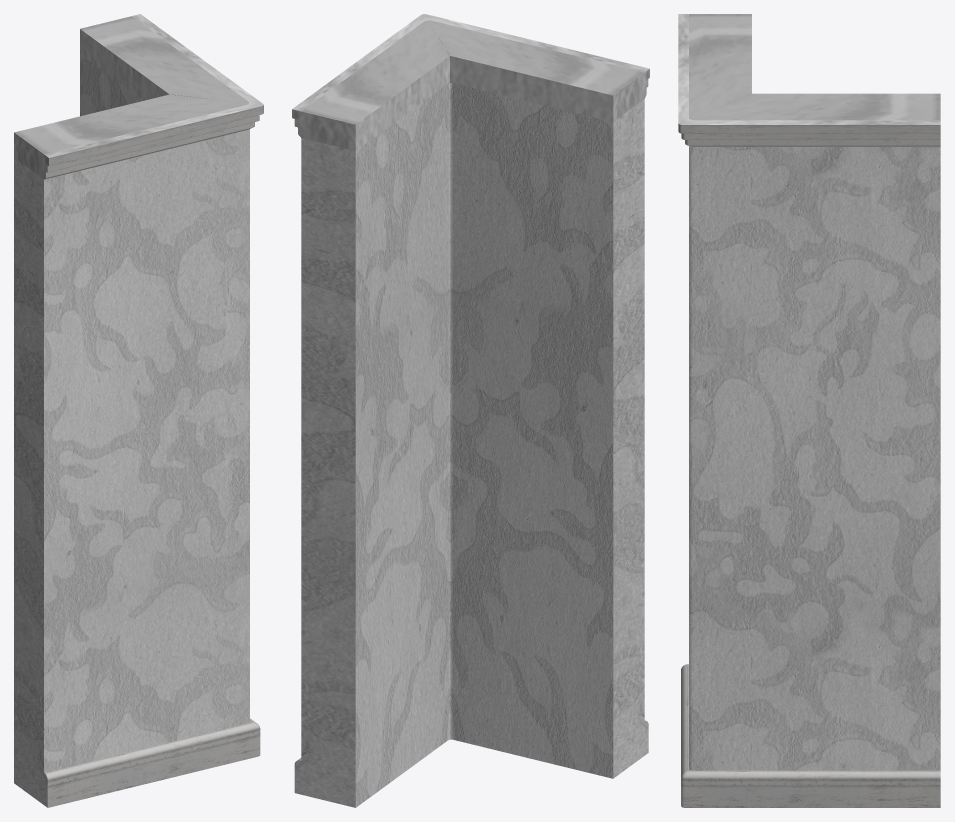
The model's file is SM_Wall_Bedroom_Corner.fbx.
3 renders of one model, left to right at view 1: azimuth 30°, elevation 25°; view 2: azimuth 150°, elevation 25°; view 3: azimuth 270°, elevation 25°, orthographic. The views are drawn at different scales.
Visible parts, largest first — view 1: SM_Wall_Bedroom_Corner_LOD0; view 2: SM_Wall_Bedroom_Corner_LOD0; view 3: SM_Wall_Bedroom_Corner_LOD0.
Part boxes in pixels (bbox=[...]): SM_Wall_Bedroom_Corner_LOD0: bbox=[14, 14, 263, 807]; SM_Wall_Bedroom_Corner_LOD0: bbox=[292, 14, 649, 807]; SM_Wall_Bedroom_Corner_LOD0: bbox=[678, 14, 940, 807].
Size of the model in its own units: 104 by 104 by 300.
